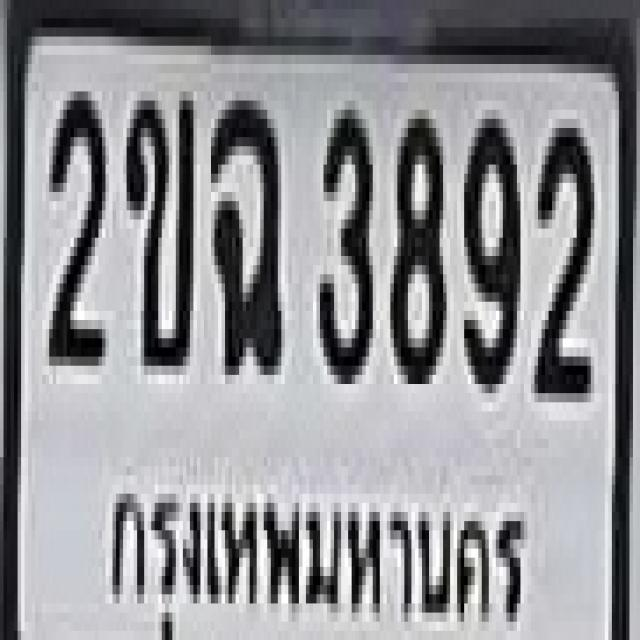-: (207, 91, 278, 366), (123, 87, 190, 361)
2: (531, 119, 591, 393), (46, 82, 102, 357)
3: (317, 100, 369, 375)
8: (387, 105, 439, 380)
9: (461, 110, 517, 384)
